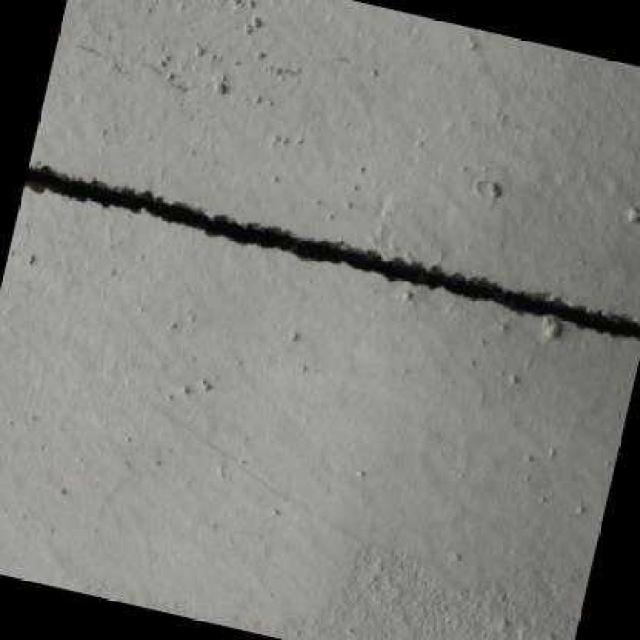D00: (22, 162, 640, 341)
